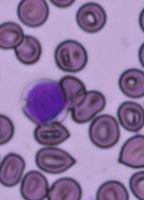L: (21, 78, 68, 126)
